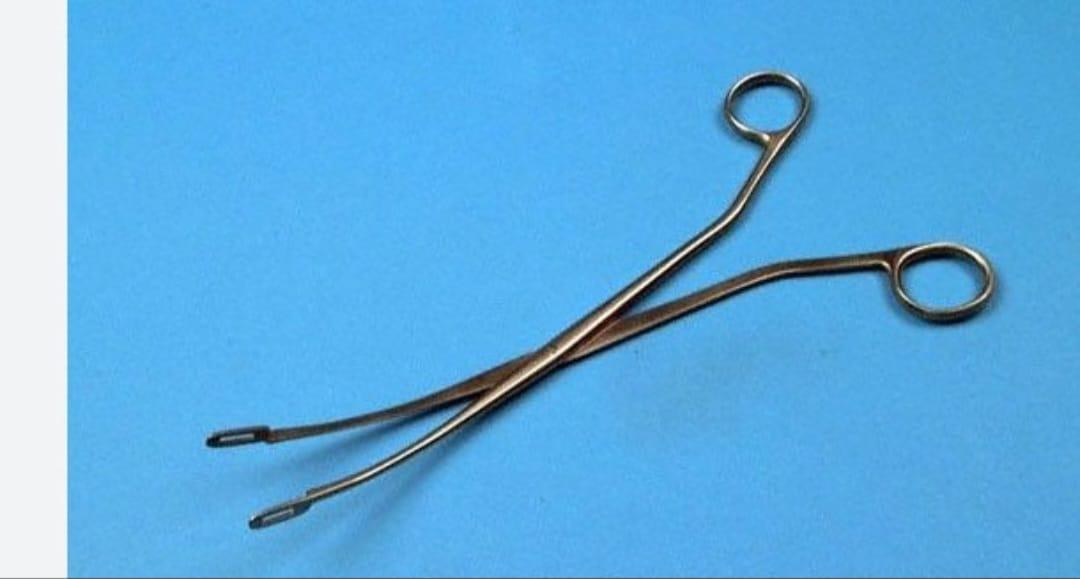Desjardin Forceps: (197, 66, 1000, 535)
